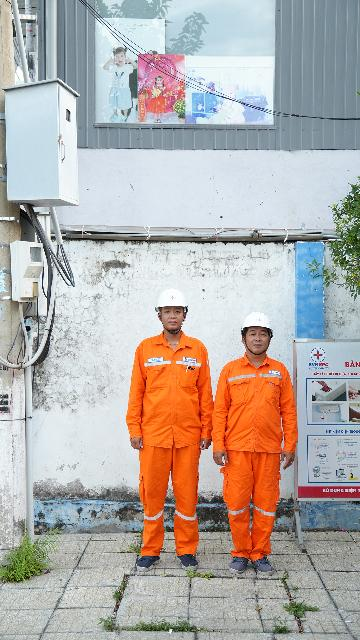helmet: (151, 282, 198, 318), (233, 309, 289, 338)
shoes: (225, 546, 282, 579), (132, 537, 164, 579), (174, 542, 203, 583)
